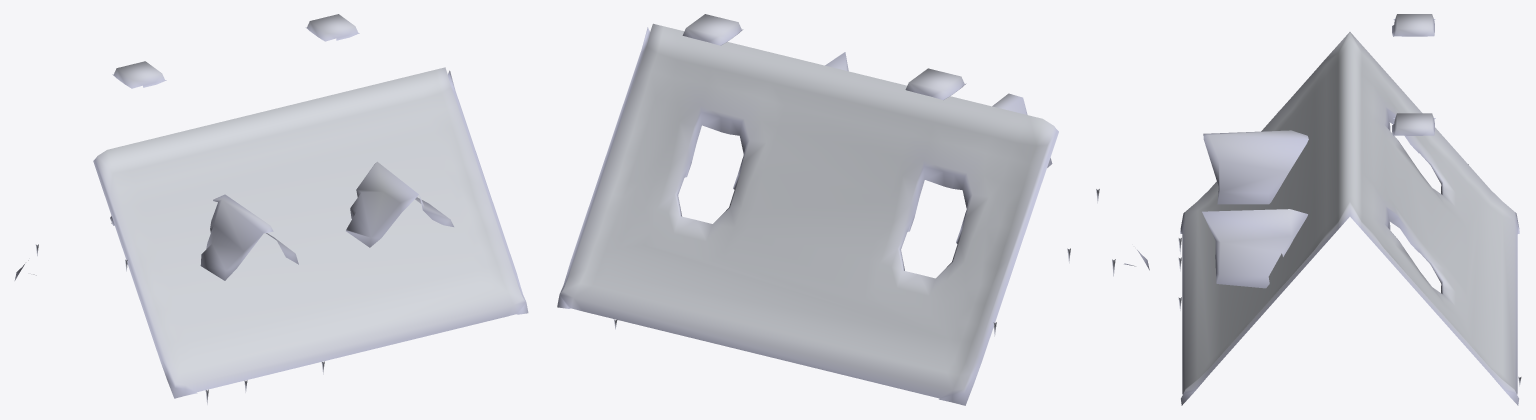
Rendered from category.other.m.snow.glb.
The picture shows the model from 3 angles, left to right: view 1: azimuth 30°, elevation 25°; view 2: azimuth 150°, elevation 25°; view 3: azimuth 270°, elevation 25°; orthographic projection. The views are drawn at different scales.
Visible parts, largest first — view 1: snow, tier.2; view 2: snow, tier.2; view 3: snow, tier.2.
Part boxes in pixels (bbox=[...]): snow: bbox=[14, 14, 528, 404]; tier.2: bbox=[200, 161, 453, 280]; snow: bbox=[557, 14, 1149, 405]; tier.2: bbox=[825, 52, 1052, 167]; snow: bbox=[1178, 14, 1521, 405]; tier.2: bbox=[1202, 130, 1308, 288].
Bounding box in the file's own units: 4.81 × 3.12 × 3.8.
